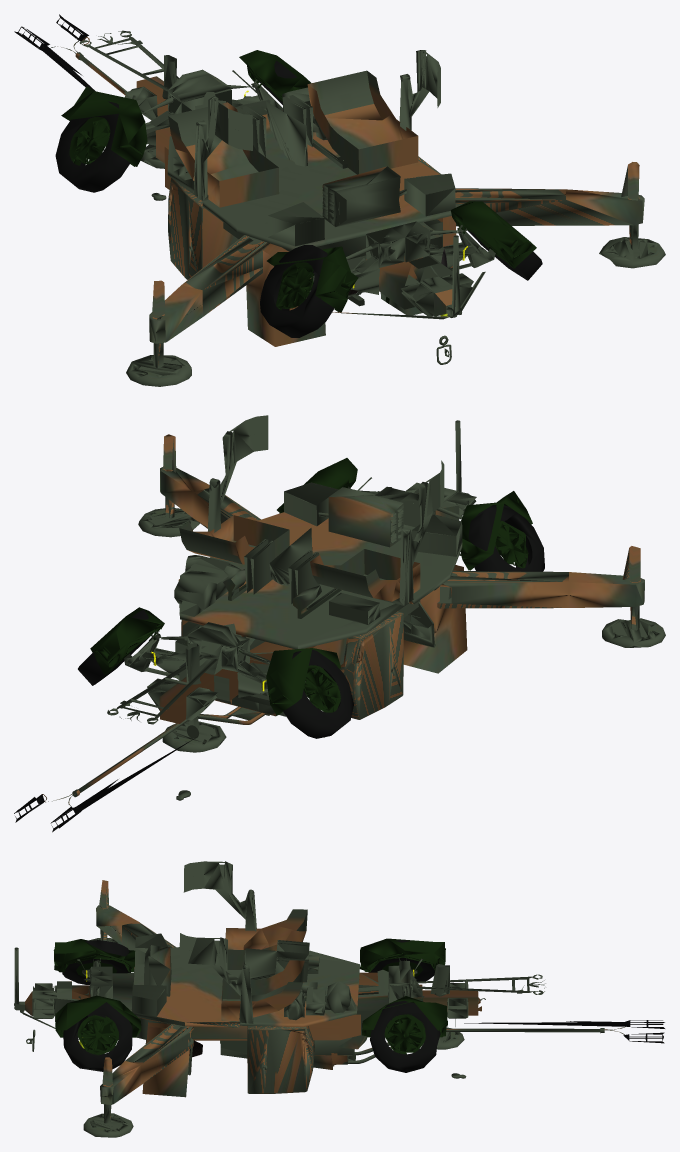
Rendered from skyguard_lo.glb.
3 views of the same model, one above another, from view 1: azimuth 30°, elevation 25°; view 2: azimuth 150°, elevation 25°; view 3: azimuth 270°, elevation 25° (orthographic). The views are drawn at different scales.
Visible parts, largest first — view 1: body|material_18, body|material, cradle|material_18, body|material_14, cradle|material_15; view 2: body|material_18, cradle|material_18, body|material, body|material_14, cradle|material_15; view 3: body|material_18, body|material, cradle|material_18, body|material_14, cradle|material_15.
Boxes of the visible parts, x1,y1,x2,y2 form: body|material_18: [79, 30, 665, 386]; body|material: [61, 50, 536, 312]; cradle|material_18: [50, 37, 456, 364]; body|material_14: [55, 60, 542, 337]; cradle|material_15: [14, 14, 95, 91]; body|material_18: [107, 415, 665, 752]; cradle|material_18: [42, 565, 467, 805]; body|material: [90, 458, 532, 737]; body|material_14: [78, 505, 544, 738]; cradle|material_15: [14, 738, 194, 832]; body|material_18: [14, 861, 545, 1137]; body|material: [53, 938, 447, 1055]; cradle|material_18: [26, 1019, 626, 1097]; body|material_14: [62, 940, 440, 1072]; cradle|material_15: [464, 1020, 664, 1043].
Bounding box in the file's own units: 6.23 × 2.64 × 8.68.
12 materials, 4 textured.
